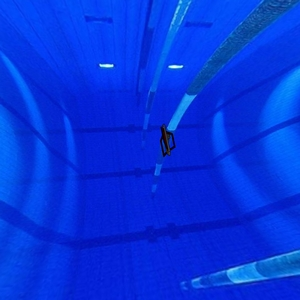submarine: (154, 122, 180, 168)
